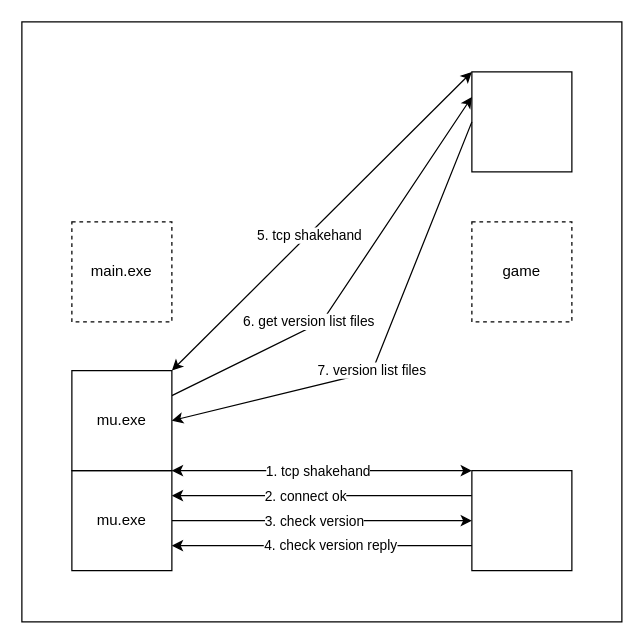
This 644x644 diagram has some shape labels left out. Here are the shapes that lost their labels. From the top down, the centre of each, then its label:
[521,121]: web
[521,520]: connect
